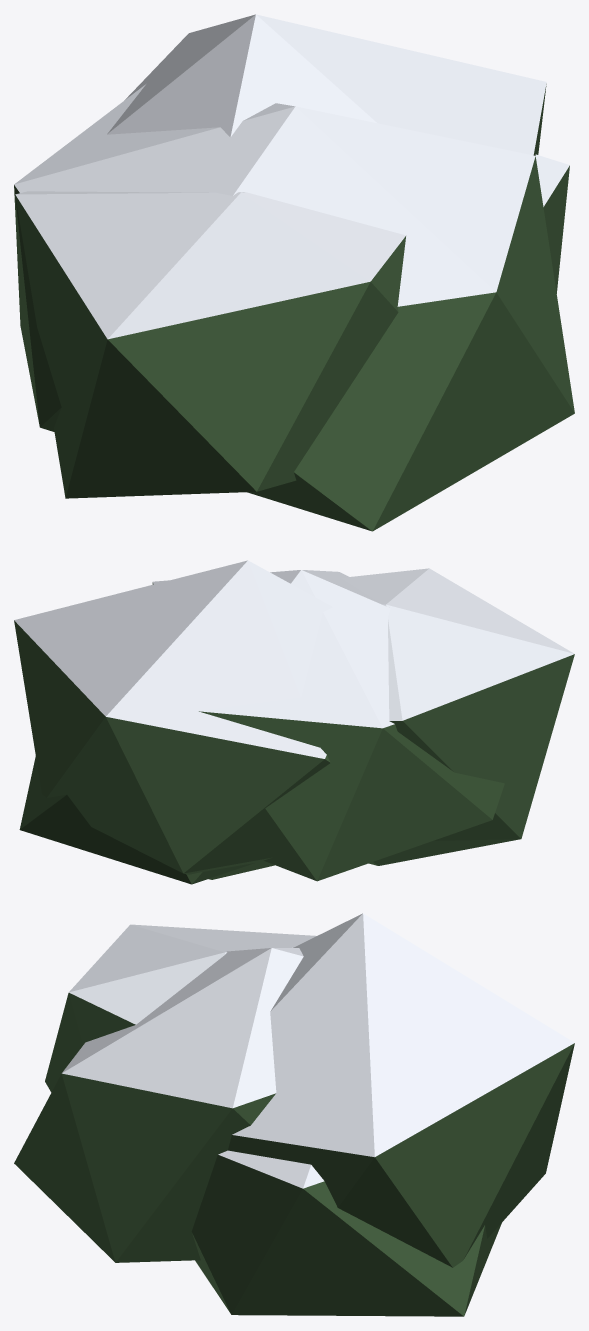
File: shrub-2.glb
3 renders of one model, top to bottom at view 1: azimuth 30°, elevation 25°; view 2: azimuth 150°, elevation 25°; view 3: azimuth 270°, elevation 25°, orthographic. The views are drawn at different scales.
Parts seen in each view (by area): view 1: shrub-2; view 2: shrub-2; view 3: shrub-2.
Part boxes in pixels (box(x1,y1,x2,y2)): shrub-2: box(14, 14, 574, 531); shrub-2: box(14, 560, 574, 884); shrub-2: box(14, 913, 574, 1316).
Bounding box in the file's own units: 1.38 × 0.9899 × 1.37.
